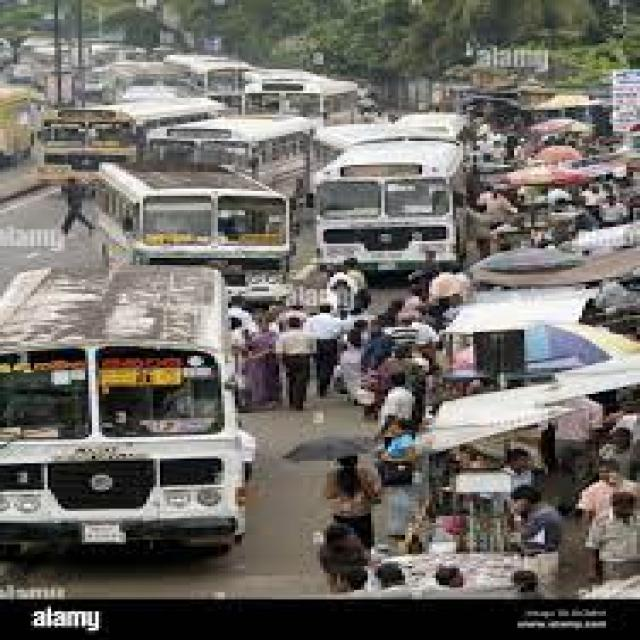bus: (1, 265, 242, 552), (99, 162, 286, 294), (317, 143, 463, 272), (140, 117, 313, 205), (41, 98, 221, 181), (242, 72, 354, 124), (163, 55, 249, 107), (106, 60, 204, 100), (313, 124, 381, 170), (388, 112, 466, 143)
person: (371, 430, 419, 552), (323, 456, 374, 564), (575, 470, 633, 549), (378, 349, 426, 425), (238, 320, 276, 411), (276, 318, 313, 411), (599, 492, 637, 580), (303, 306, 340, 396), (320, 525, 364, 592), (511, 487, 555, 554), (334, 320, 364, 401), (378, 373, 412, 430), (327, 258, 364, 310), (381, 561, 432, 597), (398, 322, 436, 365), (61, 177, 89, 234), (477, 191, 514, 224), (235, 416, 252, 480), (466, 210, 487, 258), (504, 449, 528, 487), (432, 568, 460, 597), (395, 294, 419, 325), (514, 571, 534, 597), (599, 203, 623, 224), (582, 186, 599, 215)
